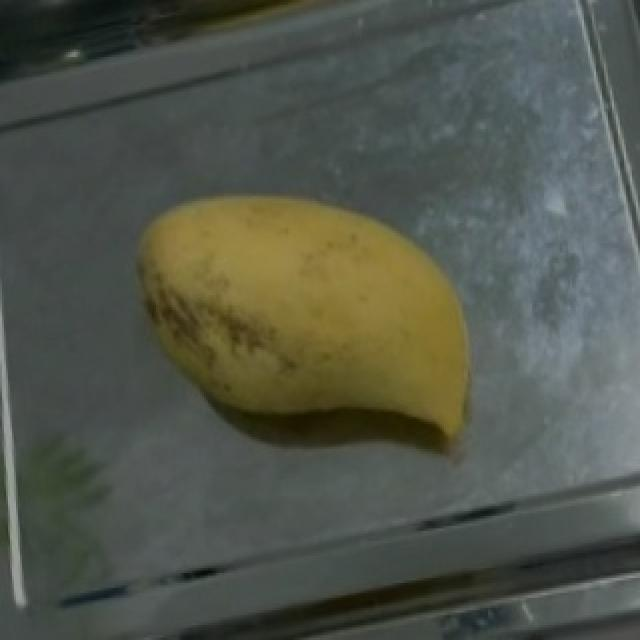fruit: (120, 136, 524, 472)
